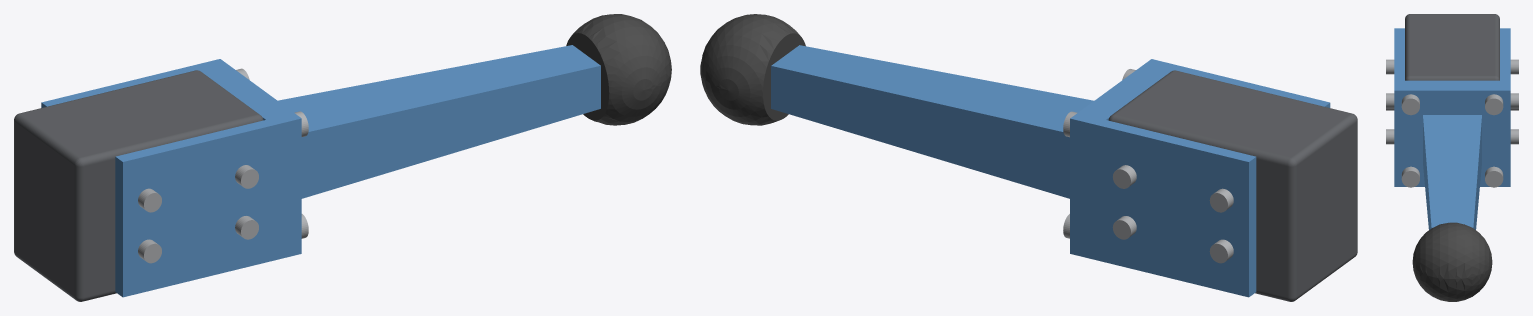
Rendered from tibia.glb.
The picture shows the model from 3 angles, left to right: view 1: azimuth 30°, elevation 25°; view 2: azimuth 150°, elevation 25°; view 3: azimuth 270°, elevation 25°; orthographic projection. The views are drawn at different scales.
Visible parts, largest first — view 1: geometry_15, geometry_0, geometry_14, geometry_13, geometry_1, geometry_2, geometry_3, geometry_4; view 2: geometry_15, geometry_0, geometry_14, geometry_13, geometry_6, geometry_5, geometry_8, geometry_7; view 3: geometry_15, geometry_0, geometry_13, geometry_14, geometry_11, geometry_12, geometry_9, geometry_10, geometry_3, geometry_4, geometry_7, geometry_8 (+2 smaller).
Part boxes in pixels (<box>): geometry_15: <box>208,45,600,256</box>; geometry_0: <box>14,70,263,301</box>; geometry_14: <box>41,62,289,297</box>; geometry_13: <box>566,14,671,125</box>; geometry_1: <box>138,188,161,212</box>; geometry_2: <box>138,239,161,263</box>; geometry_3: <box>235,165,258,188</box>; geometry_4: <box>235,216,258,239</box>; geometry_15: <box>771,45,1162,256</box>; geometry_0: <box>1108,70,1357,301</box>; geometry_14: <box>1082,62,1330,297</box>; geometry_13: <box>700,14,805,125</box>; geometry_6: <box>1209,239,1233,263</box>; geometry_5: <box>1209,188,1233,212</box>; geometry_8: <box>1112,216,1136,239</box>; geometry_7: <box>1113,165,1136,188</box>; geometry_15: <box>1394,86,1510,229</box>; geometry_0: <box>1405,14,1499,80</box>; geometry_13: <box>1412,222,1492,301</box>; geometry_14: <box>1394,28,1510,86</box>; geometry_11: <box>1401,166,1419,187</box>; geometry_12: <box>1485,166,1503,187</box>; geometry_9: <box>1401,94,1419,115</box>; geometry_10: <box>1485,94,1503,115</box>; geometry_3: <box>1386,93,1394,108</box>; geometry_4: <box>1386,129,1394,144</box>; geometry_7: <box>1510,93,1518,108</box>; geometry_8: <box>1510,129,1518,144</box>.
Bounding box in the file's own units: 0.1532 × 0.034 × 0.0399.
